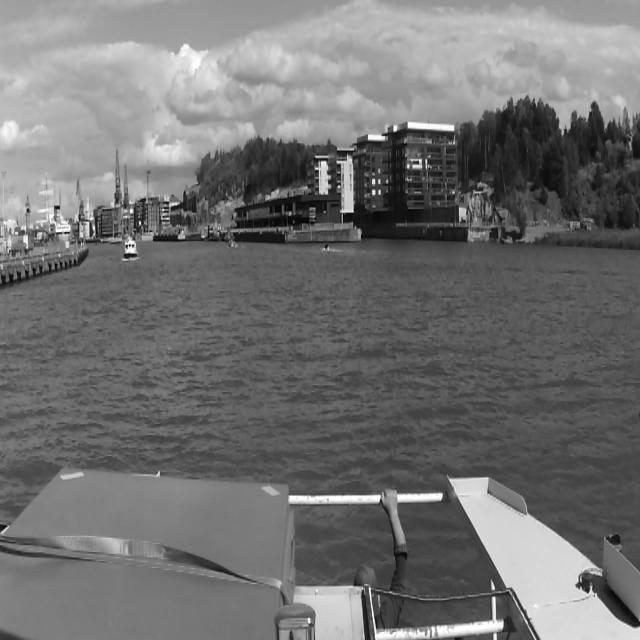ship: (120, 235, 140, 268), (227, 238, 237, 252), (324, 243, 328, 250)
